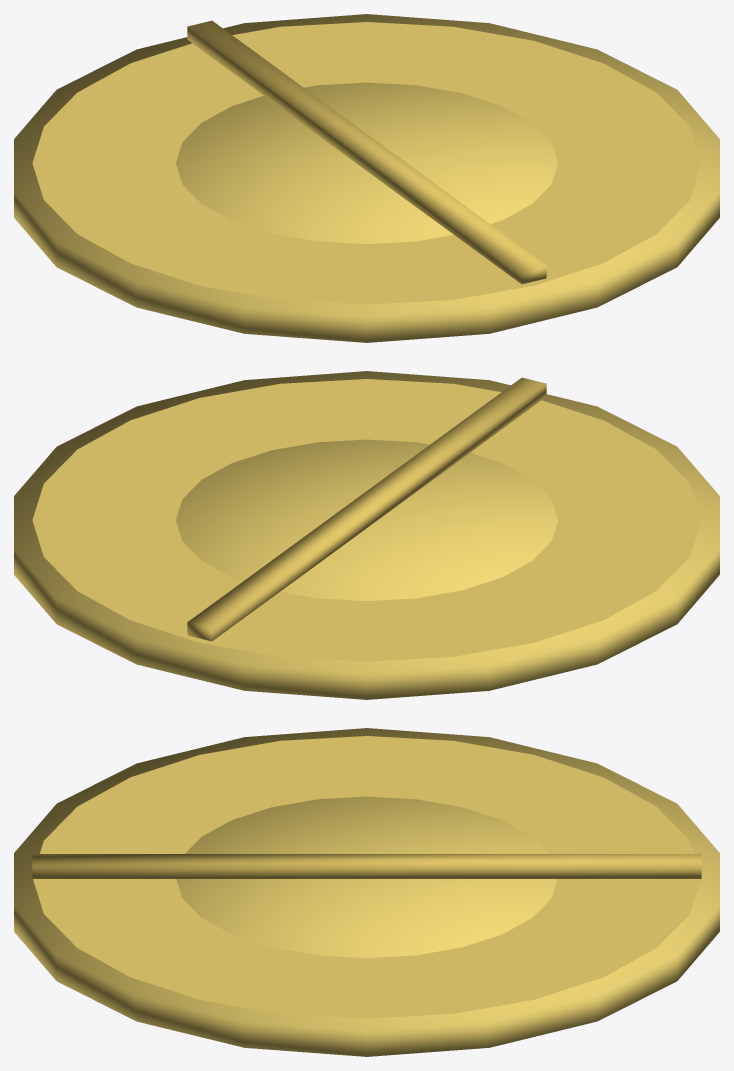
Rendered from astrolabe.glb.
The picture shows the model from 3 angles, top to bottom: view 1: azimuth 30°, elevation 25°; view 2: azimuth 150°, elevation 25°; view 3: azimuth 270°, elevation 25°; orthographic projection.
Parts seen in each view (by area): view 1: rete, mater, alidade; view 2: rete, mater, alidade; view 3: rete, mater, alidade.
Boxes of the visible parts, x1=… form: rete: x1=32, y1=22, x2=701, y2=304; mater: x1=14, y1=14, x2=719, y2=342; alidade: x1=187, y1=20, x2=546, y2=284; rete: x1=32, y1=379, x2=701, y2=661; mater: x1=14, y1=371, x2=719, y2=699; alidade: x1=187, y1=377, x2=546, y2=641; rete: x1=33, y1=736, x2=700, y2=1018; mater: x1=14, y1=728, x2=719, y2=1056; alidade: x1=32, y1=854, x2=701, y2=878.
Size of the model in its own units: 1.5 by 0.105 by 1.48.
